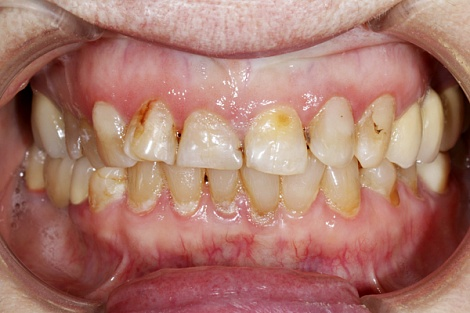LL1BC_healthy: (363, 165, 401, 209)
LLC_decay: (327, 167, 364, 216)
LLLI_decay: (281, 176, 324, 221)
LR1BC_decay: (89, 169, 124, 213)
LR2BC_healthy: (70, 159, 91, 210)
LRCI_decay: (210, 170, 241, 222)
LRC_decay: (125, 167, 160, 215)
LRLI_decay: (164, 168, 204, 215)
UL1BC_healthy: (387, 102, 422, 170)
ULCI_decay: (242, 101, 307, 176)
ULC_decay: (355, 94, 388, 172)
ULLI_decay: (303, 95, 355, 168)
URCI_decay: (178, 105, 246, 169)
URC_decay: (91, 102, 138, 167)
URLI_decay: (125, 97, 178, 162)
_decay: (242, 173, 281, 219)
